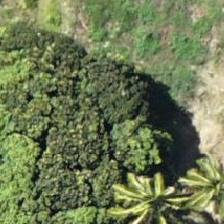Kelapa_Sawit: (106, 160, 197, 223), (172, 145, 223, 223)
